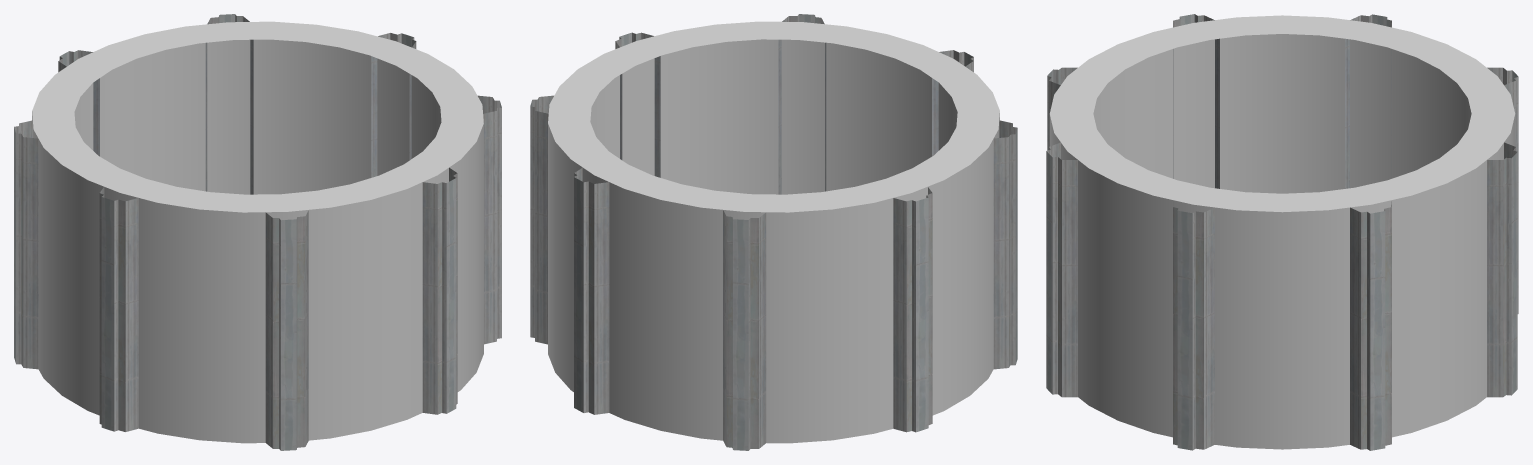
The model's file is SM_TowerB_Mid_01.fbx.
The picture shows the model from 3 angles, left to right: view 1: azimuth 30°, elevation 25°; view 2: azimuth 150°, elevation 25°; view 3: azimuth 270°, elevation 25°; orthographic projection. The views are drawn at different scales.
Parts seen in each view (by area): view 1: SM_TowerB_Mid_01_LOD0; view 2: SM_TowerB_Mid_01_LOD0; view 3: SM_TowerB_Mid_01_LOD0.
Boxes of the visible parts, x1,y1,x2,y2 form: SM_TowerB_Mid_01_LOD0: (14, 14, 501, 450); SM_TowerB_Mid_01_LOD0: (530, 14, 1017, 450); SM_TowerB_Mid_01_LOD0: (1046, 14, 1518, 450).
Size of what is drawn, in the model's own units: 8.12 by 4.5 by 8.12.
